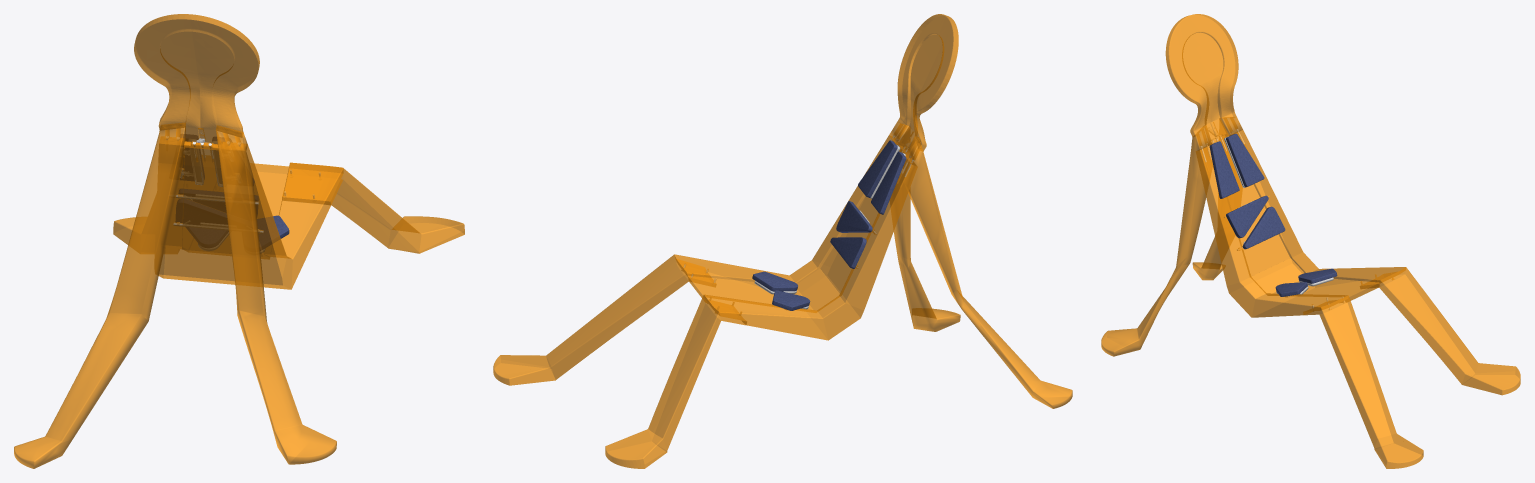
File: chair1.glb
The picture shows the model from 3 angles, left to right: view 1: azimuth 30°, elevation 25°; view 2: azimuth 150°, elevation 25°; view 3: azimuth 270°, elevation 25°; orthographic projection. The views are drawn at different scales.
Parts seen in each view (by area): view 1: ASSISE, BRAS SUP GAUCHE, REPOSE TETE 2, BRAS SUP DROIT, PIED AVANT DROIT, PIED AVANT GAUCHE, FOIE INF, FESSE DROITE, FESSE GAUCHE; view 2: ASSISE, PIED AVANT DROIT, PIED AVANT GAUCHE, BRAS SUP GAUCHE, REPOSE TETE 2, BRAS SUP DROIT, POUMON GAUCHE, POUMON DROIT, FOIE INF, FOIE SUP, FESSE DROITE; view 3: ASSISE, REPOSE TETE 2, PIED AVANT DROIT, PIED AVANT GAUCHE, BRAS SUP DROIT, BRAS SUP GAUCHE, POUMON DROIT, POUMON GAUCHE, FOIE SUP, FOIE INF.
Boxes of the visible parts, left/top/right/bottom form: ASSISE: left=155, top=136, right=343, bottom=289; BRAS SUP GAUCHE: left=14, top=123, right=185, bottom=468; REPOSE TETE 2: left=134, top=14, right=259, bottom=150; BRAS SUP DROIT: left=216, top=126, right=336, bottom=464; PIED AVANT DROIT: left=282, top=163, right=464, bottom=253; PIED AVANT GAUCHE: left=113, top=195, right=179, bottom=253; FOIE INF: left=176, top=199, right=227, bottom=224; FESSE DROITE: left=257, top=215, right=289, bottom=249; FESSE GAUCHE: left=186, top=227, right=228, bottom=247; ASSISE: left=674, top=135, right=917, bottom=340; PIED AVANT DROIT: left=493, top=254, right=715, bottom=385; PIED AVANT GAUCHE: left=605, top=295, right=746, bottom=468; BRAS SUP GAUCHE: left=904, top=136, right=1072, bottom=408; REPOSE TETE 2: left=897, top=14, right=958, bottom=154; BRAS SUP DROIT: left=889, top=122, right=960, bottom=331; POUMON GAUCHE: left=871, top=151, right=906, bottom=214; POUMON DROIT: left=858, top=140, right=897, bottom=197; FOIE INF: left=830, top=237, right=866, bottom=268; FOIE SUP: left=836, top=201, right=872, bottom=232; FESSE DROITE: left=752, top=271, right=797, bottom=291; ASSISE: left=1195, top=130, right=1405, bottom=317; REPOSE TETE 2: left=1165, top=14, right=1238, bottom=144; PIED AVANT DROIT: left=1303, top=295, right=1423, bottom=468; PIED AVANT GAUCHE: left=1360, top=267, right=1520, bottom=395; BRAS SUP DROIT: left=1101, top=125, right=1211, bottom=356; BRAS SUP GAUCHE: left=1192, top=117, right=1242, bottom=280; POUMON DROIT: left=1209, top=141, right=1239, bottom=198; POUMON GAUCHE: left=1226, top=133, right=1264, bottom=187; FOIE SUP: left=1226, top=195, right=1268, bottom=238; FOIE INF: left=1242, top=206, right=1285, bottom=249.
Bounding box in the file's own units: 1.79 × 1.26 × 1.57.
Materials: 8 (1 with a texture image).
